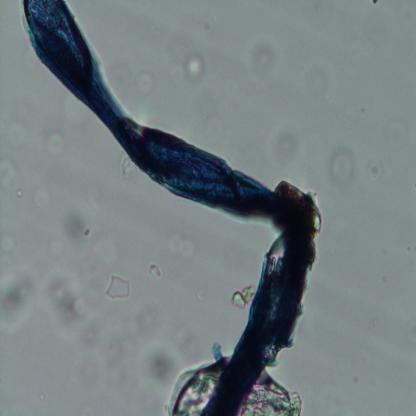Background material: (166, 357, 230, 414), (84, 312, 125, 392), (43, 267, 82, 334), (249, 372, 300, 414), (0, 271, 33, 327), (139, 341, 180, 385), (156, 228, 199, 260), (0, 163, 33, 200), (248, 37, 276, 79), (274, 123, 299, 164), (358, 150, 386, 185), (332, 144, 353, 184), (184, 51, 208, 84), (64, 213, 91, 241), (107, 274, 132, 301), (233, 281, 255, 310), (47, 129, 67, 160), (137, 69, 155, 96), (0, 228, 16, 253), (211, 341, 223, 363), (120, 157, 132, 175), (149, 264, 162, 280)
Cotton: (21, 0, 318, 414)
